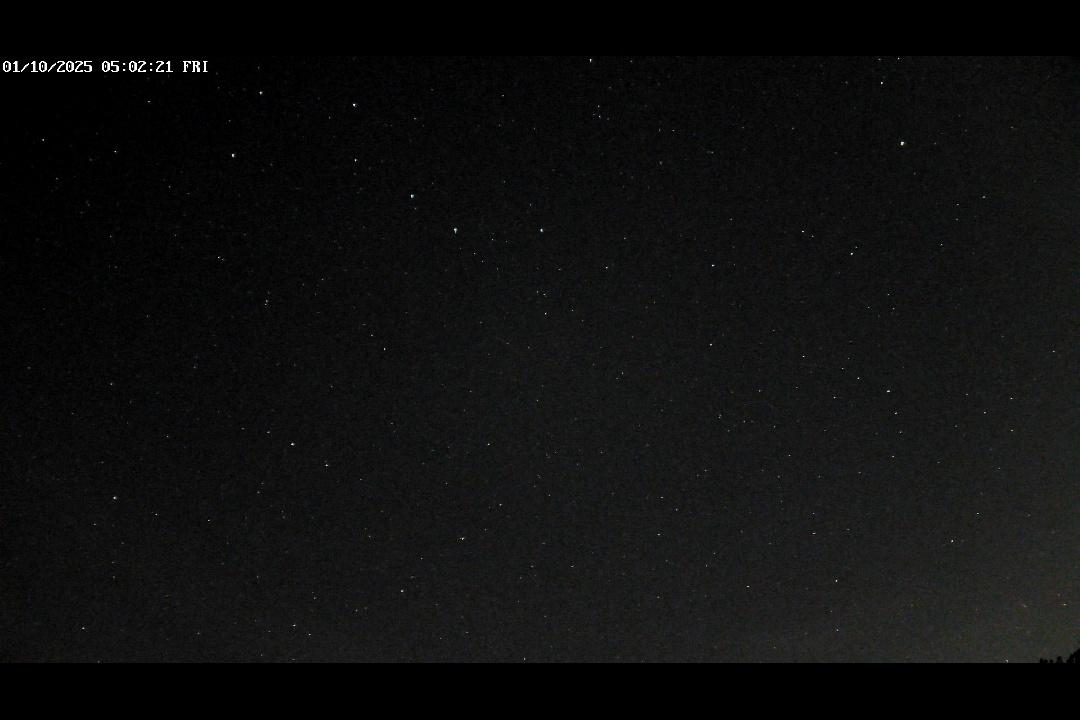Plane: (1015, 600, 1031, 609)
